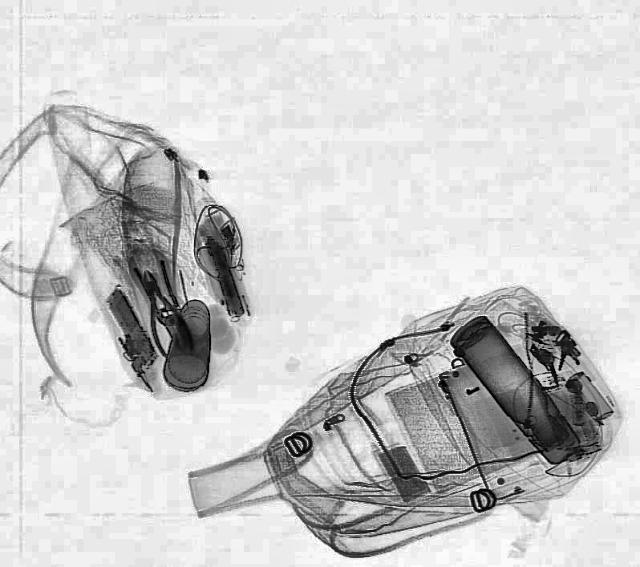Pliers: (126, 268, 196, 358), (131, 260, 189, 330)
